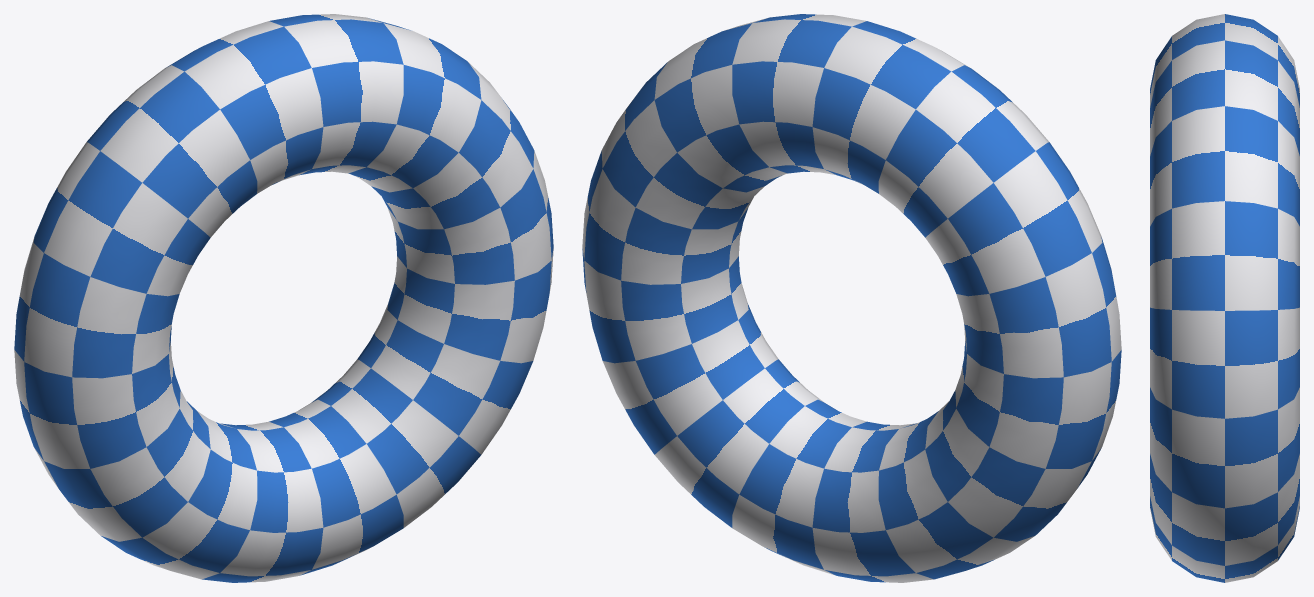
3 views of the same model, side by side, from view 1: azimuth 30°, elevation 25°; view 2: azimuth 150°, elevation 25°; view 3: azimuth 270°, elevation 25° (orthographic). The views are drawn at different scales.
Visible parts, largest first — view 1: Torus; view 2: Torus; view 3: Torus.
Part boxes in pixels (x1=…): Torus: x1=14, y1=14, x2=553, y2=582; Torus: x1=582, y1=14, x2=1121, y2=582; Torus: x1=1150, y1=14, x2=1299, y2=582.
Size of the model in its own units: 1.9 by 1.9 by 0.5.
Materials: 1 (1 with a texture image).
